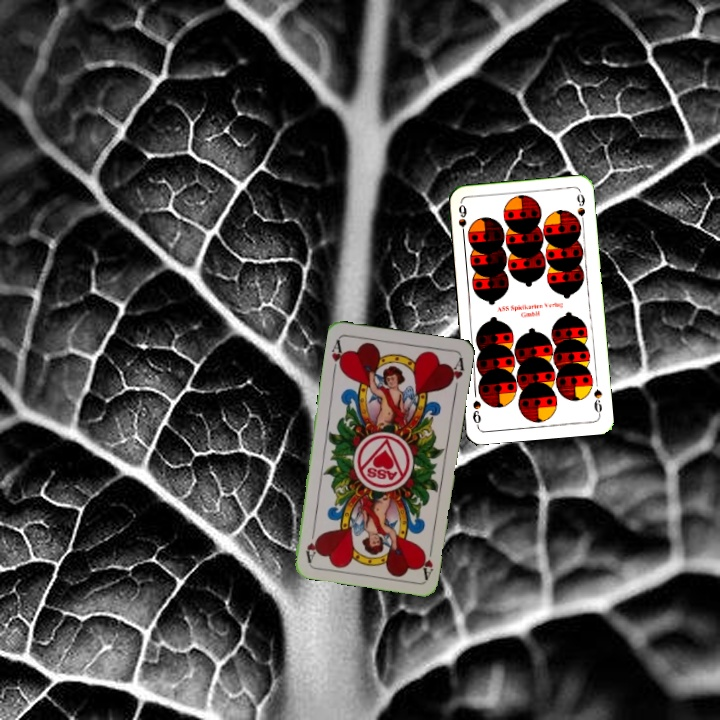HA: (416, 540, 436, 581), (328, 335, 347, 376)
S9: (454, 200, 469, 240), (590, 385, 605, 418)
